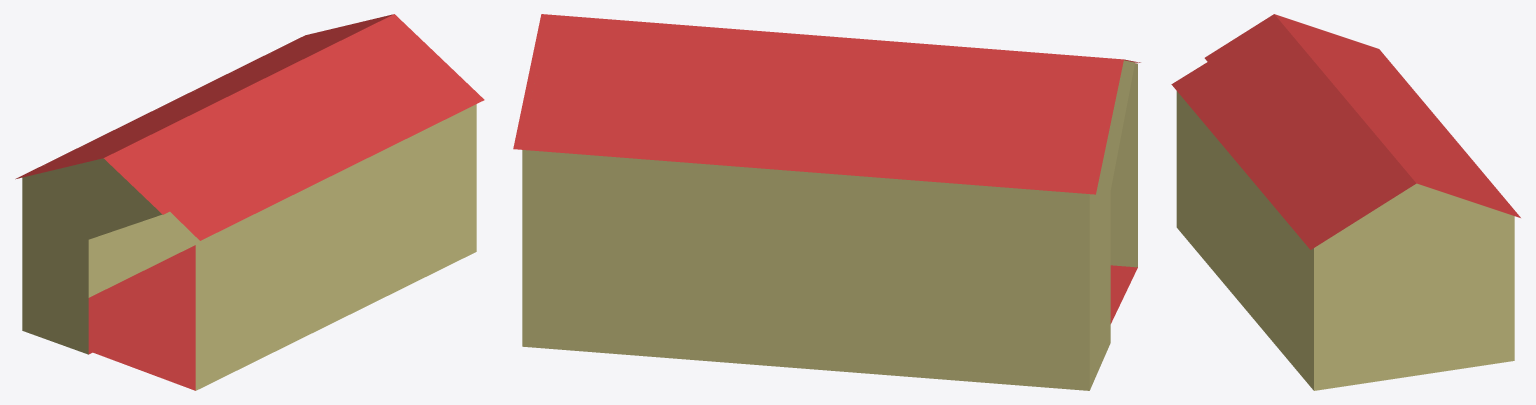
The picture shows the model from 3 angles, left to right: view 1: azimuth 30°, elevation 25°; view 2: azimuth 150°, elevation 25°; view 3: azimuth 270°, elevation 25°; orthographic projection. The views are drawn at different scales.
Size of the model in its own units: 21.43 by 15.77 by 9.67.
